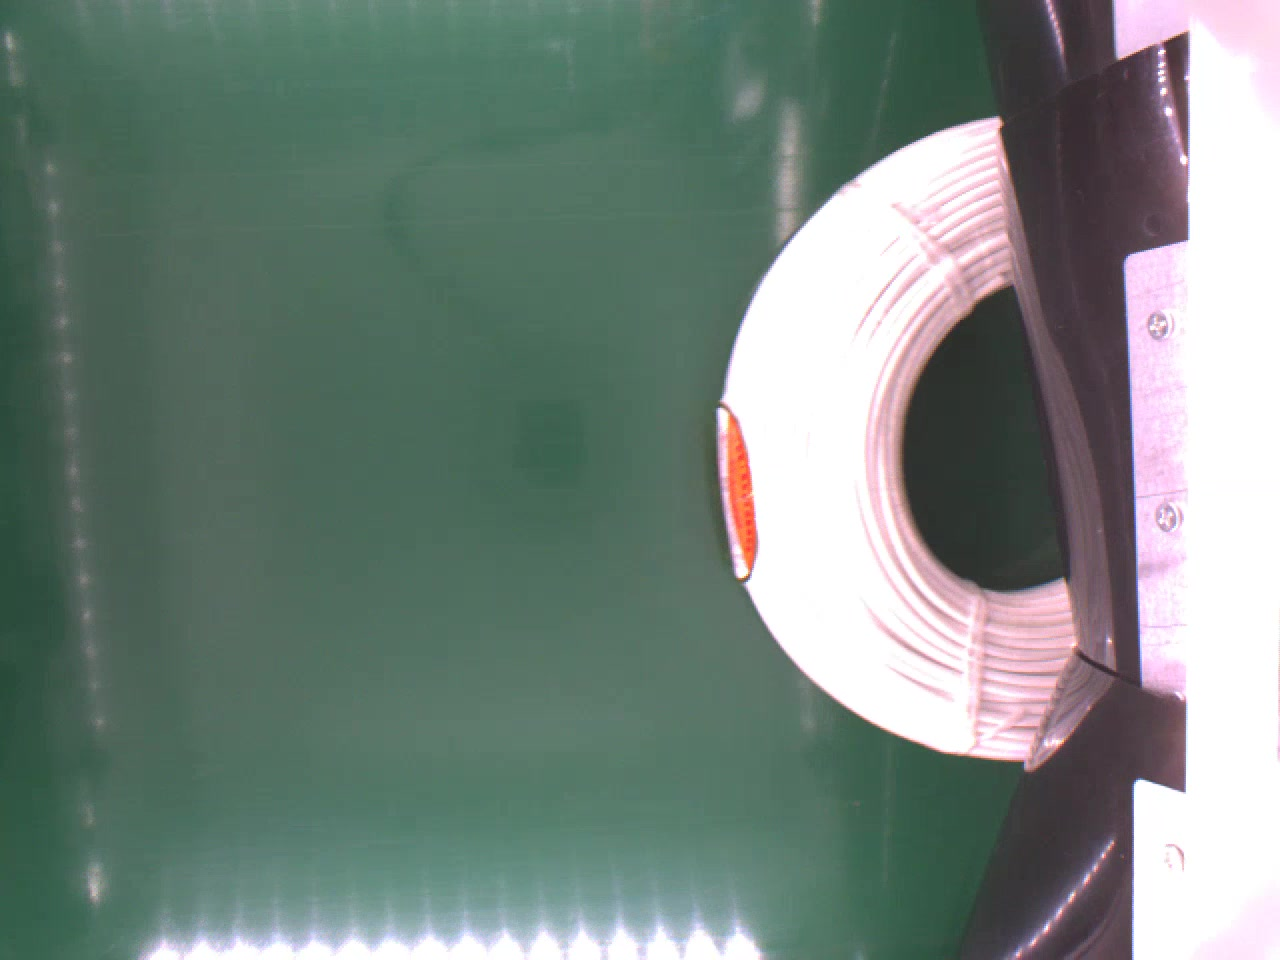white: (715, 109, 1082, 764)
